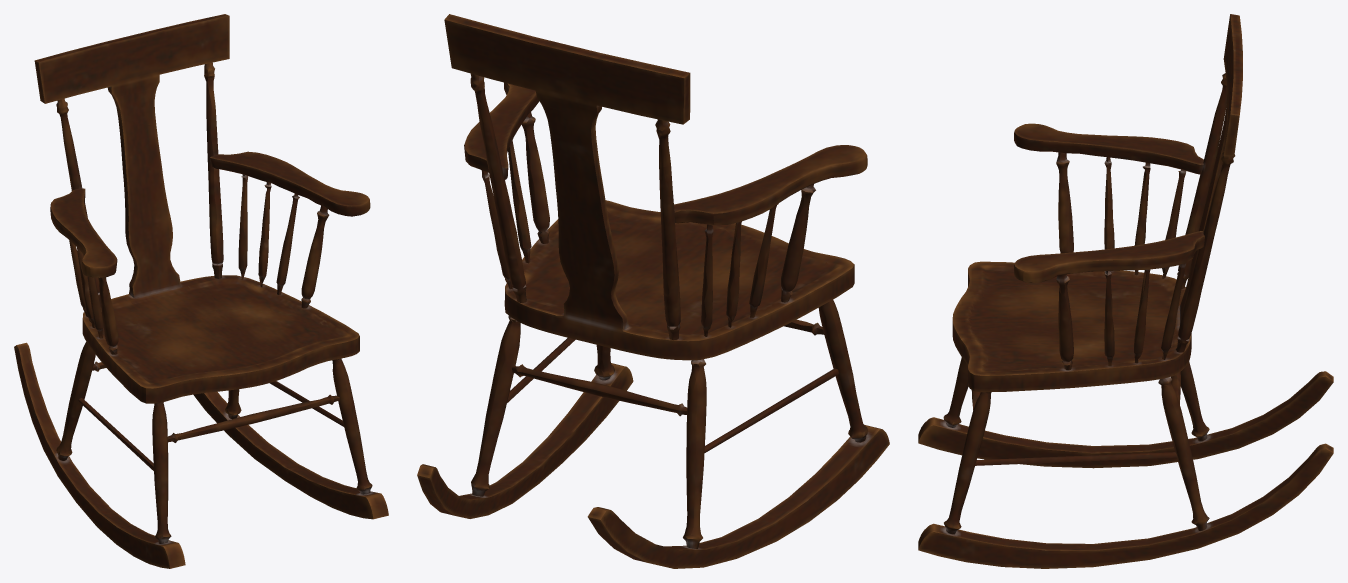
File: chair_rocking.glb
The picture shows the model from 3 angles, left to right: view 1: azimuth 30°, elevation 25°; view 2: azimuth 150°, elevation 25°; view 3: azimuth 270°, elevation 25°; orthographic projection. The views are drawn at different scales.
Parts seen in each view (by area): view 1: mesh; view 2: mesh; view 3: mesh.
Part boxes in pixels (x1,y1,x2,y2): mesh: (14, 14, 388, 568); mesh: (417, 14, 889, 568); mesh: (918, 14, 1333, 568).
Size of the model in its own units: 0.7079 by 0.9949 by 0.8336.
1 material, 1 textured.
